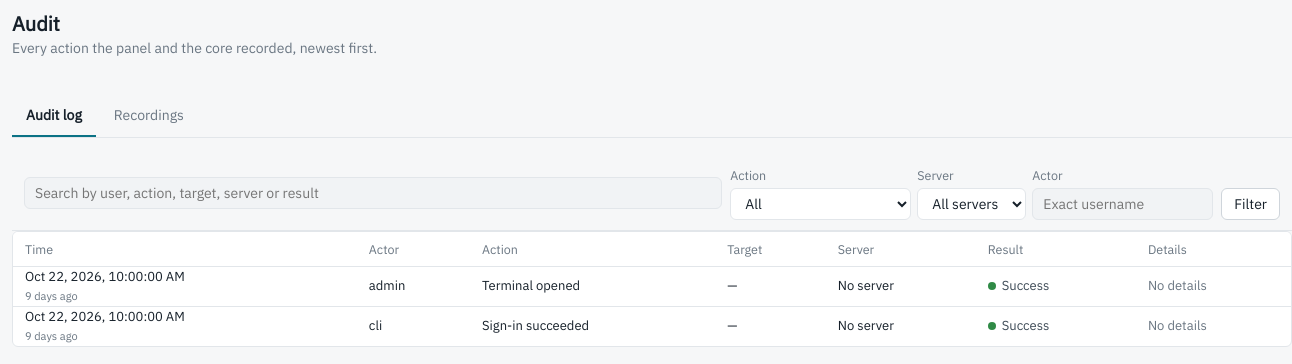
Test case: Audit › searches the loaded events and keeps the text filter in the URL
The image size is (1292, 364).
Expected: the text "Terminal opened" is shown, [470,266,715,306]
Type "cli" into the search field labelled "Search".
click(373, 193); type("cli")  # box [24,177,722,209]
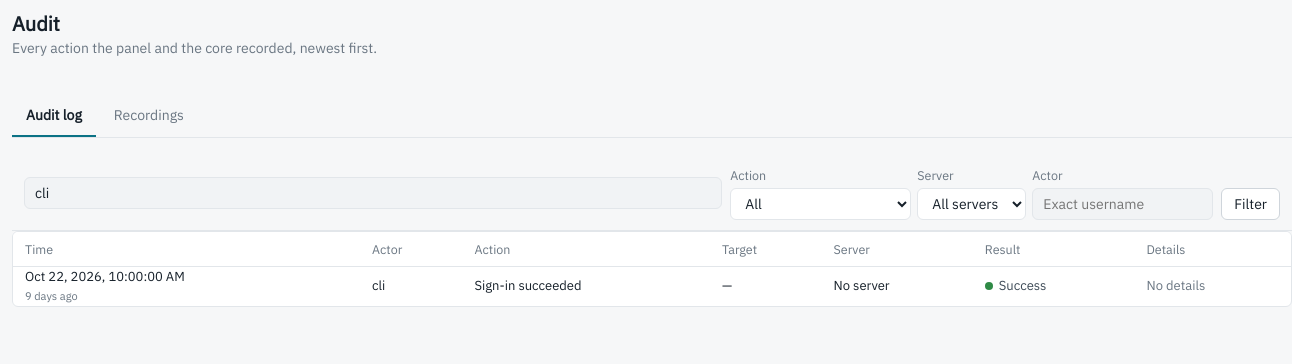
Expected: the cell "cli" is shown, [360,266,462,306]
Expected: the text "Terminal opened" is gone
